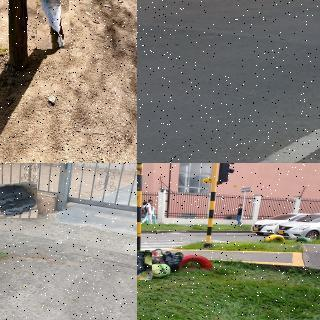Garbage: (35, 0, 70, 49), (0, 182, 37, 219), (137, 251, 152, 281), (145, 263, 173, 279), (163, 251, 182, 272), (145, 249, 164, 264)
